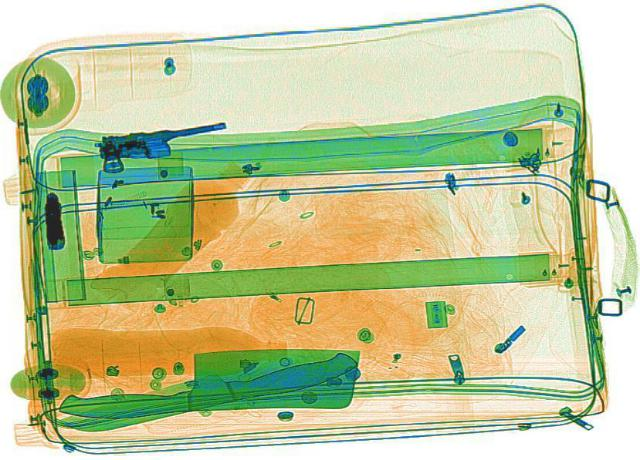Gun: (84, 111, 236, 172), (30, 188, 70, 250)
Knife: (48, 343, 364, 442), (54, 345, 362, 418)
